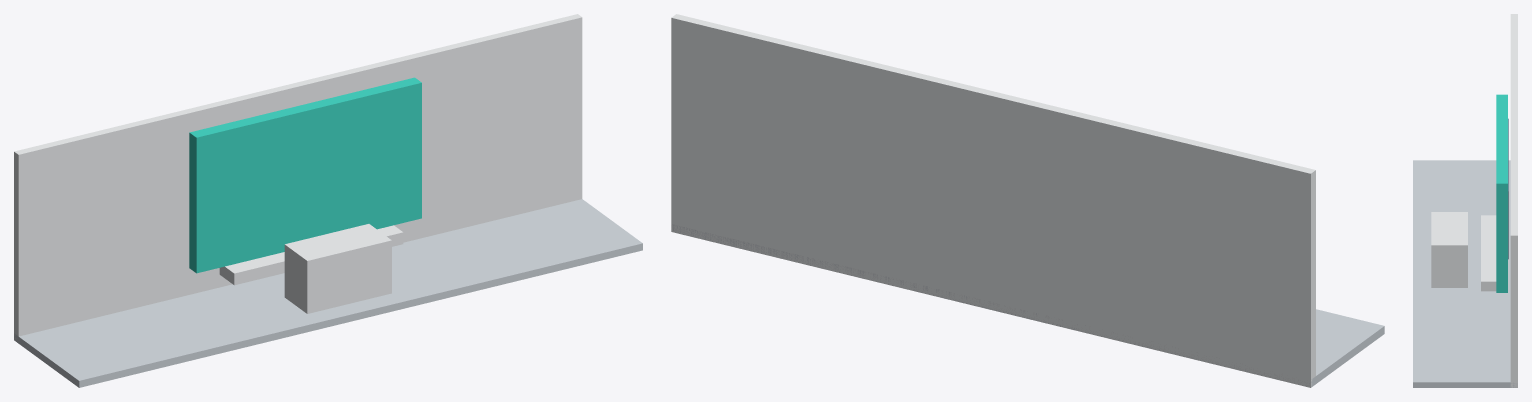
3 renders of one model, left to right at view 1: azimuth 30°, elevation 25°; view 2: azimuth 150°, elevation 25°; view 3: azimuth 270°, elevation 25°, orthographic. The views are drawn at different scales.
Visible parts, largest first — view 1: Exhibition Booth Concept; view 2: Exhibition Booth Concept; view 3: Exhibition Booth Concept.
Part boxes in pixels (x1,y1,x2,y2): Exhibition Booth Concept: [14, 14, 642, 387]; Exhibition Booth Concept: [671, 14, 1384, 387]; Exhibition Booth Concept: [1413, 14, 1517, 387].
Bounding box in the file's own units: 10 × 3.2 × 2.
